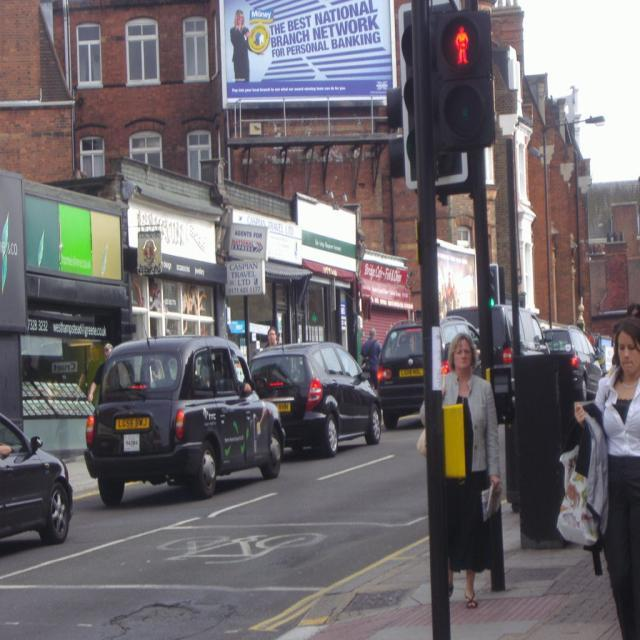traffic light: (432, 9, 496, 144)
